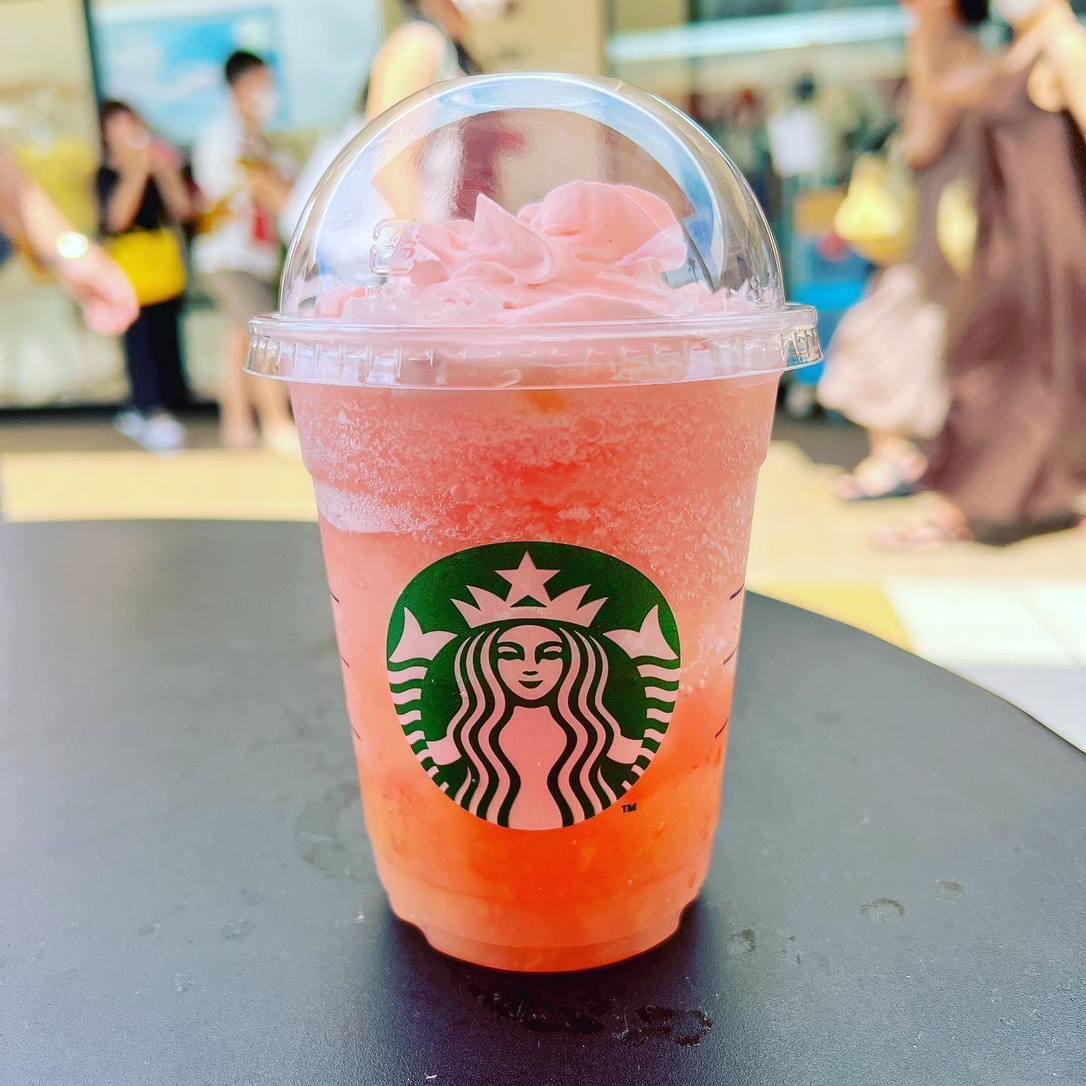cup-disposable: (255, 58, 824, 984)
